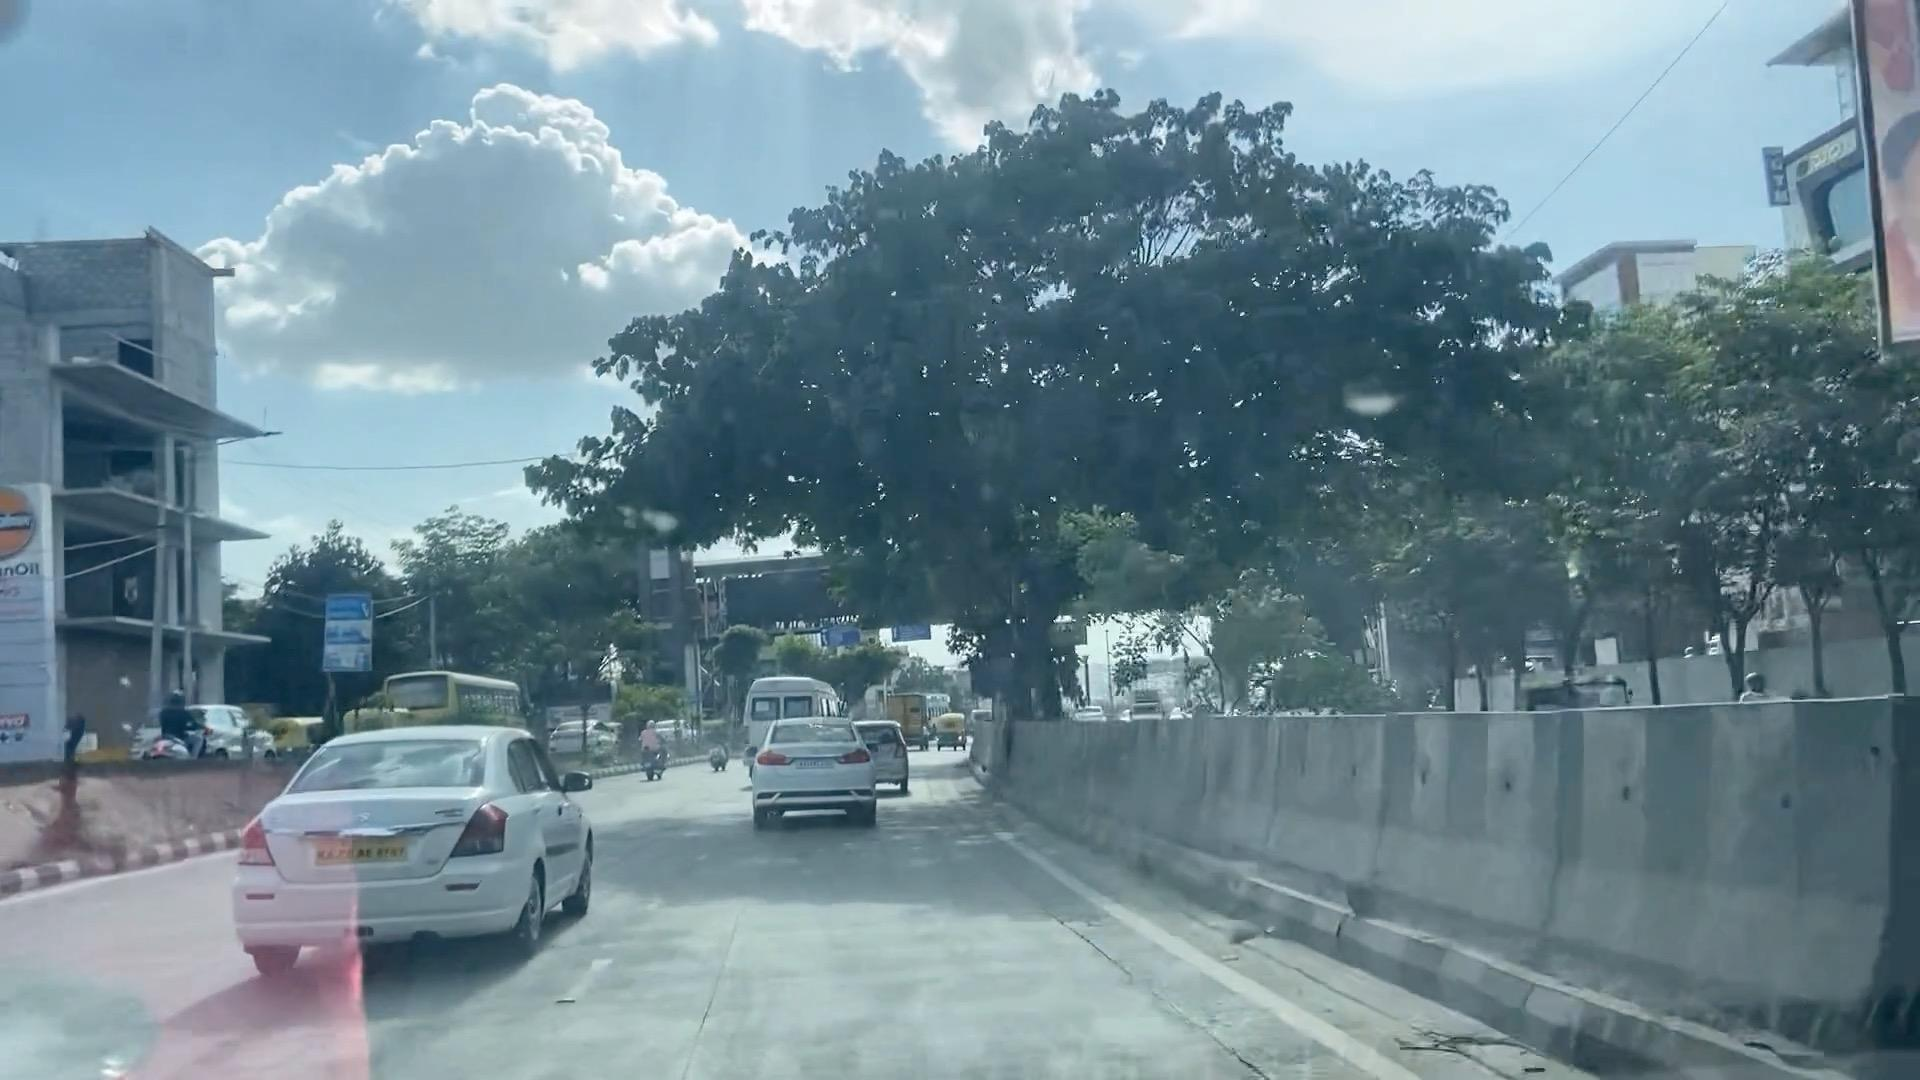LMV: (251, 715, 583, 952), (753, 720, 890, 818)
